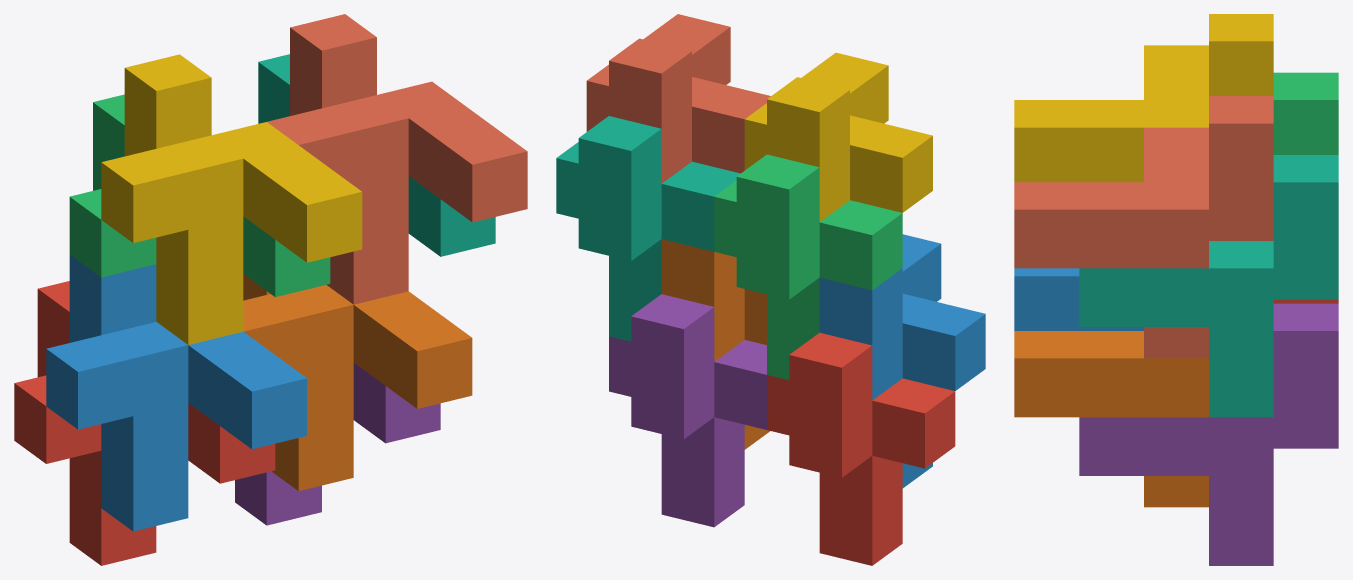
Rendered from tiling.obj.
3 renders of one model, left to right at view 1: azimuth 30°, elevation 25°; view 2: azimuth 150°, elevation 25°; view 3: azimuth 270°, elevation 25°, orthographic. The views are drawn at different scales.
Visible parts, largest first — view 1: copy_1_domain_4, copy_1_domain_2, copy_1_domain_8, copy_1_domain_6, copy_1_domain_1, copy_1_domain_3, copy_1_domain_5, copy_1_domain_7; view 2: copy_1_domain_1, copy_1_domain_5, copy_1_domain_3, copy_1_domain_7, copy_1_domain_4, copy_1_domain_8, copy_1_domain_2, copy_1_domain_6; view 3: copy_1_domain_8, copy_1_domain_7, copy_1_domain_5, copy_1_domain_4, copy_1_domain_6, copy_1_domain_3, copy_1_domain_2.
Part boxes in pixels (<box>): copy_1_domain_4: <box>101,54,362,344</box>; copy_1_domain_2: <box>46,254,306,531</box>; copy_1_domain_8: <box>267,14,527,304</box>; copy_1_domain_6: <box>243,274,472,491</box>; copy_1_domain_1: <box>14,281,275,565</box>; copy_1_domain_3: <box>69,94,330,297</box>; copy_1_domain_5: <box>235,363,440,525</box>; copy_1_domain_7: <box>258,54,495,256</box>; copy_1_domain_1: <box>767,332,955,565</box>; copy_1_domain_5: <box>609,294,766,527</box>; copy_1_domain_3: <box>714,154,902,380</box>; copy_1_domain_7: <box>556,116,740,341</box>; copy_1_domain_4: <box>744,52,932,221</box>; copy_1_domain_8: <box>586,14,770,183</box>; copy_1_domain_2: <box>819,234,985,488</box>; copy_1_domain_6: <box>661,239,769,449</box>; copy_1_domain_8: <box>1014,96,1273,358</box>; copy_1_domain_7: <box>1079,155,1338,417</box>; copy_1_domain_5: <box>1079,303,1338,565</box>; copy_1_domain_4: <box>1014,14,1273,182</box>; copy_1_domain_6: <box>1014,331,1208,507</box>; copy_1_domain_3: <box>1273,72,1338,154</box>; copy_1_domain_2: <box>1014,268,1143,330</box>.
Size of the model in its own units: 7 by 8 by 5.
